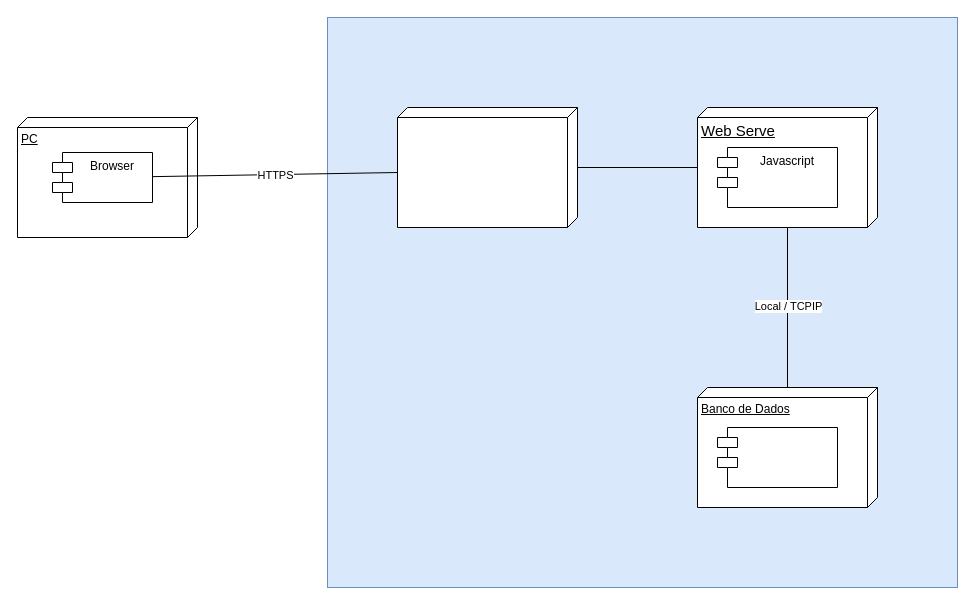
The diagram is 975 pixels wide and 605 high, and some of its shapes have lost their labels. Each missing label, with the centre of its shape:
"Firewall" goes at point 487,167.
"MySQL" goes at point 777,457.
